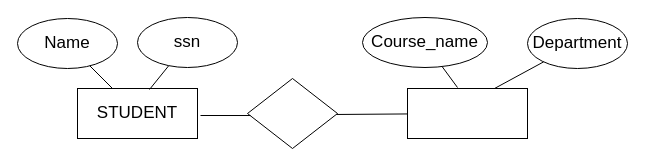
The diagram is 645 pixels wide and 166 high, and some of its shapes have lost their labels. Each missing label, with the centre of its shape:
"COURSE" goes at point (467, 113).
"enrolled" goes at point (292, 113).
